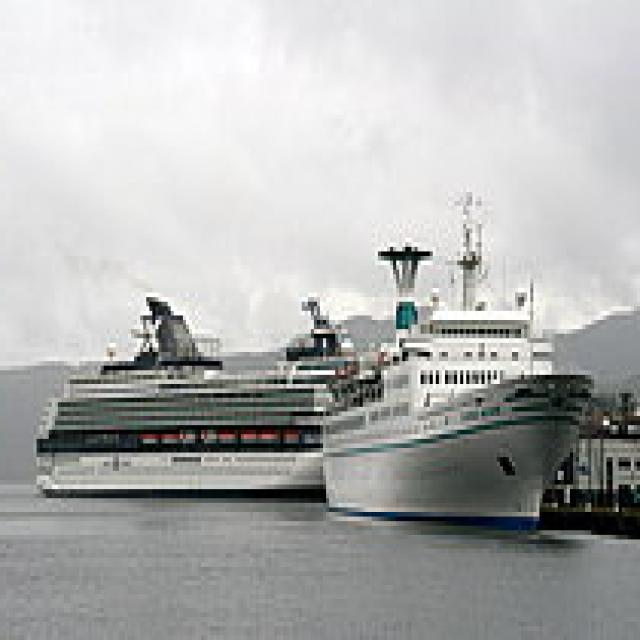Cruise: (323, 183, 600, 535), (33, 288, 375, 498)
